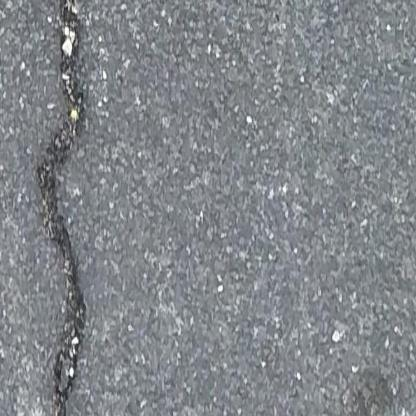Cracks: (34, 0, 93, 416)
